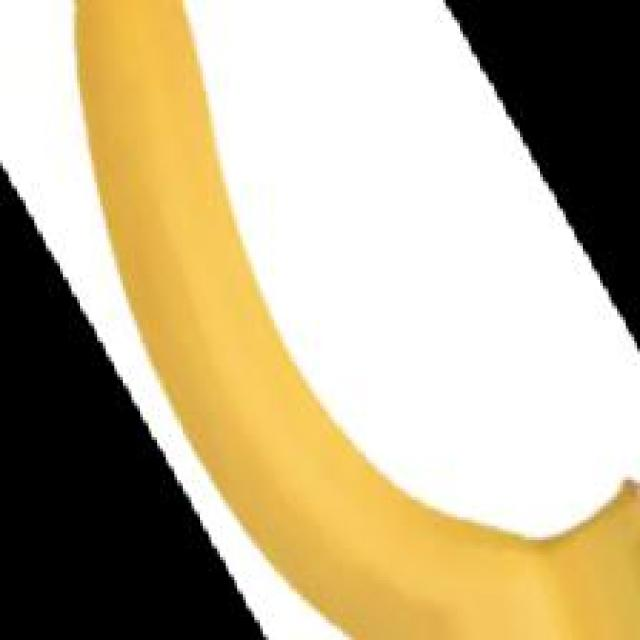banana: (51, 5, 639, 640)
